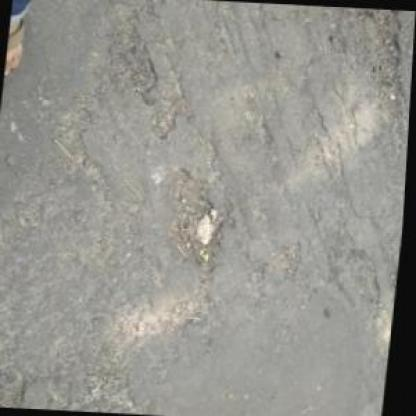pothole: (158, 166, 234, 274), (156, 84, 192, 142), (126, 51, 160, 96), (272, 237, 306, 280)
